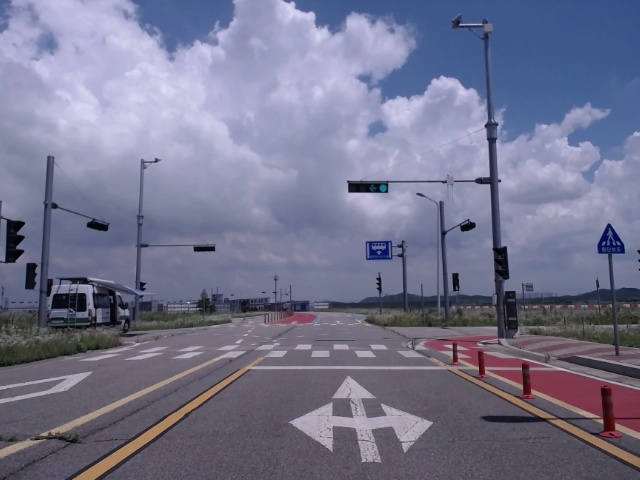all_green_4: (349, 183, 391, 192)
